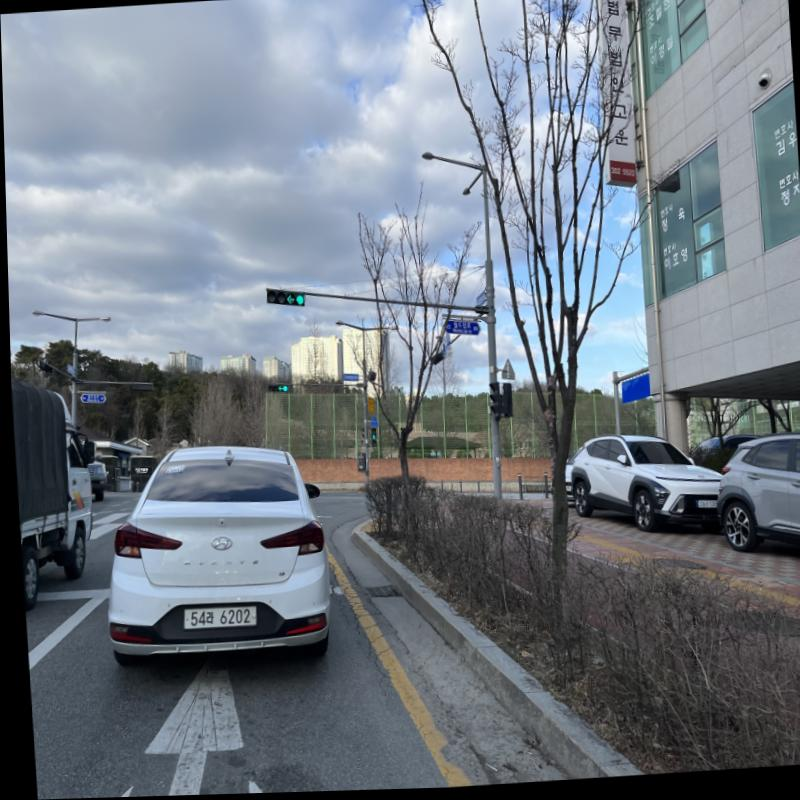green: (293, 296, 302, 307)
left: (284, 295, 293, 307), (275, 387, 280, 392)
